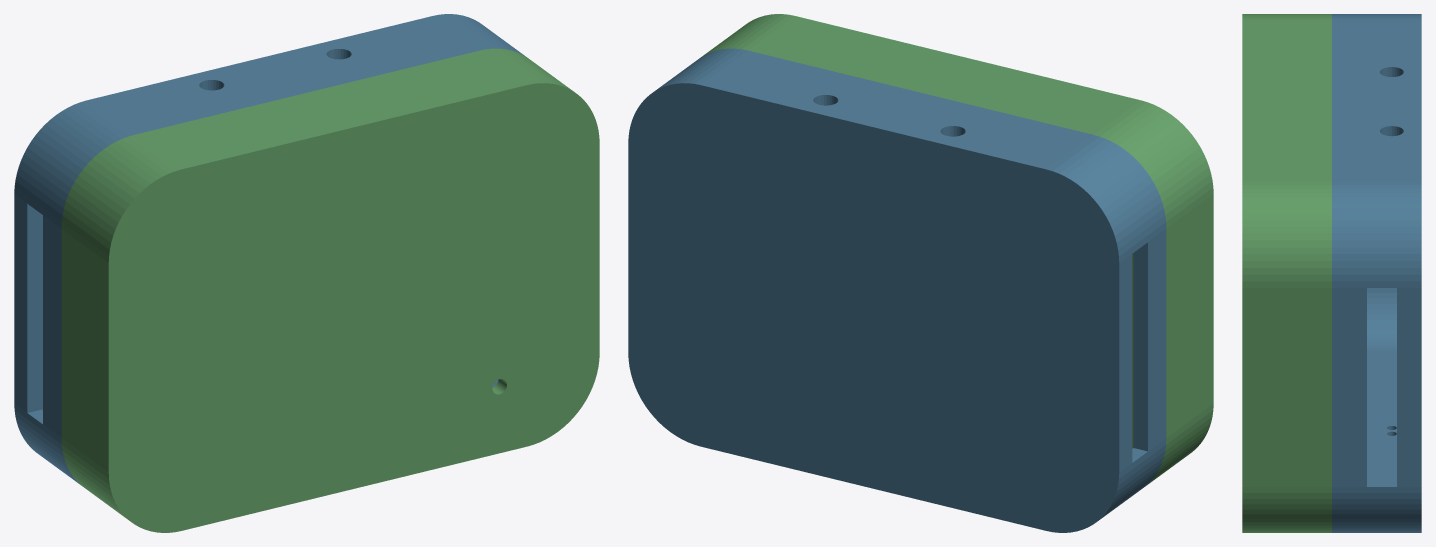
Rendered from cat-collar-shell.glb.
The picture shows the model from 3 angles, left to right: view 1: azimuth 30°, elevation 25°; view 2: azimuth 150°, elevation 25°; view 3: azimuth 270°, elevation 25°; orthographic projection. The views are drawn at different scales.
Parts seen in each view (by area): view 1: shell_top, shell_bottom; view 2: shell_bottom, shell_top; view 3: shell_top, shell_bottom.
Boxes of the visible parts, x1,y1,x2,y2 form: shell_top: (61, 48, 599, 532); shell_bottom: (14, 14, 525, 485); shell_bottom: (628, 48, 1166, 532); shell_top: (702, 14, 1213, 485); shell_top: (1242, 14, 1331, 532); shell_bottom: (1332, 14, 1421, 532).
Bounding box in the file's own units: 54 × 38 × 18.
